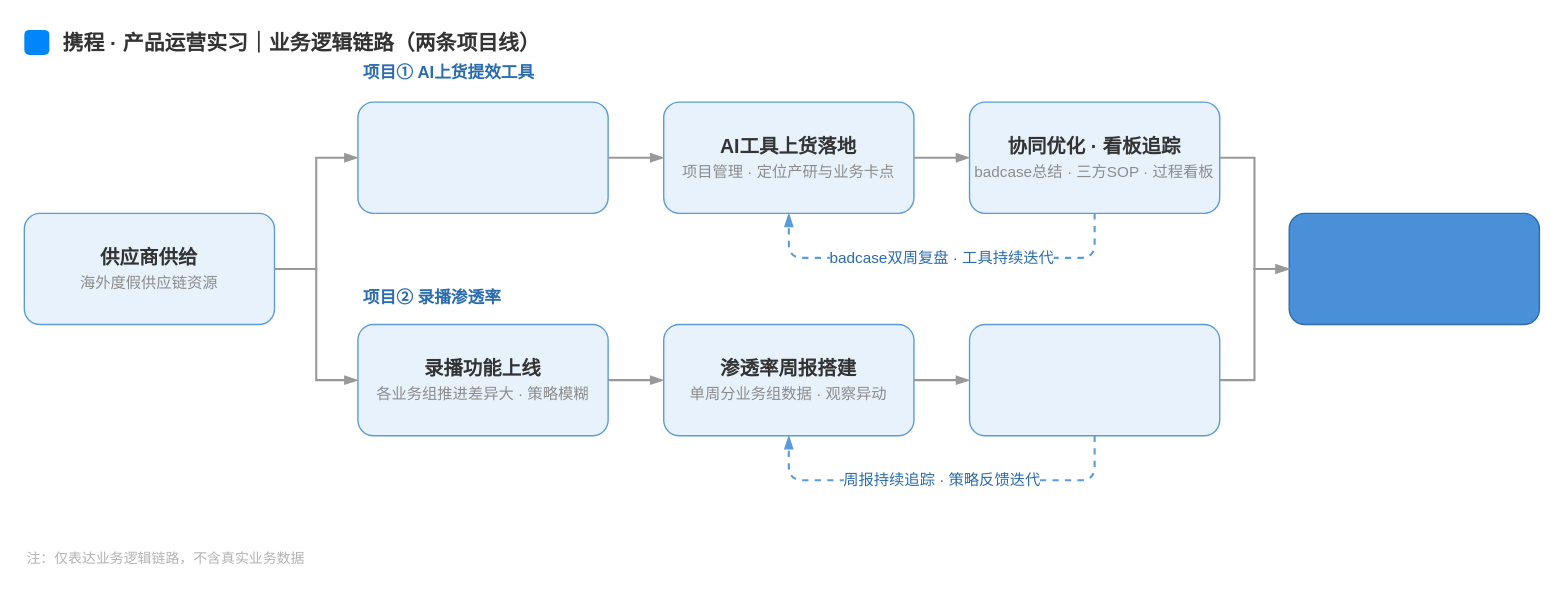
This 1564x592 diagram has some shape labels left out. Here are the shapes that lost their labels. From the top down, the box of each, then its label:
(357, 101, 608, 213): 冷启动上货难 新供应商起步慢 · 推进低效
(1288, 212, 1539, 325): GMV提升 商家经营体验与收益提升
(968, 323, 1220, 436): 执行策略 · 功能迭代 场景化标签 · 一线反馈协同
